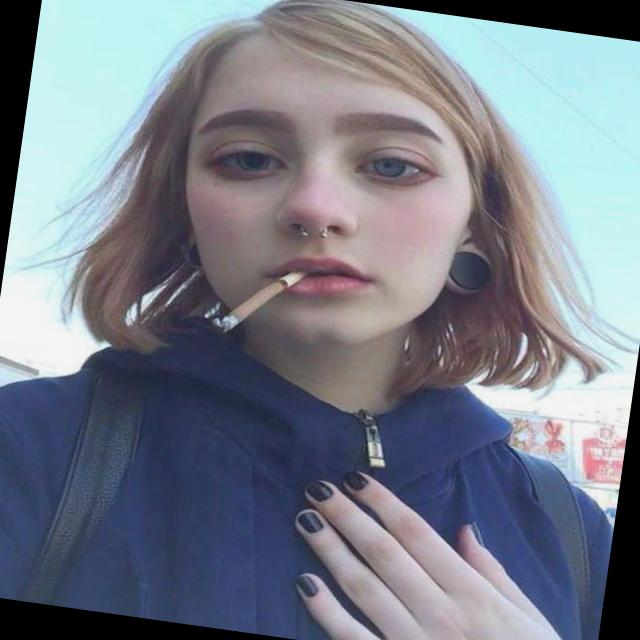cigarette: (208, 242, 308, 362)
